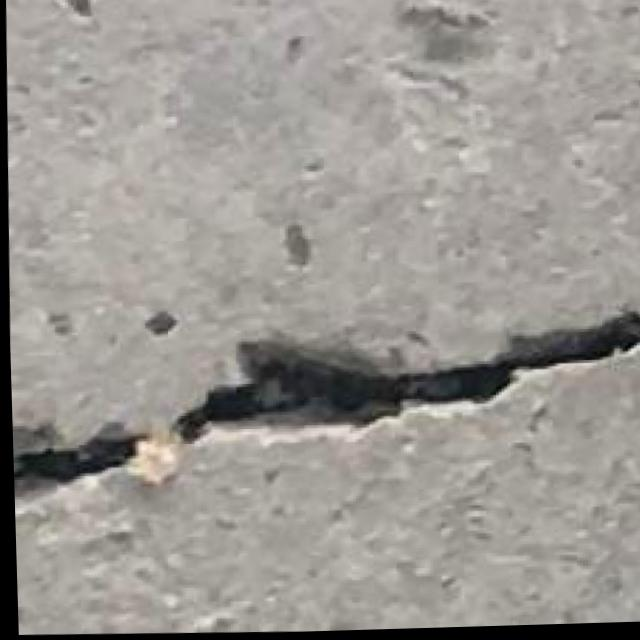Crack: (6, 257, 640, 543)
